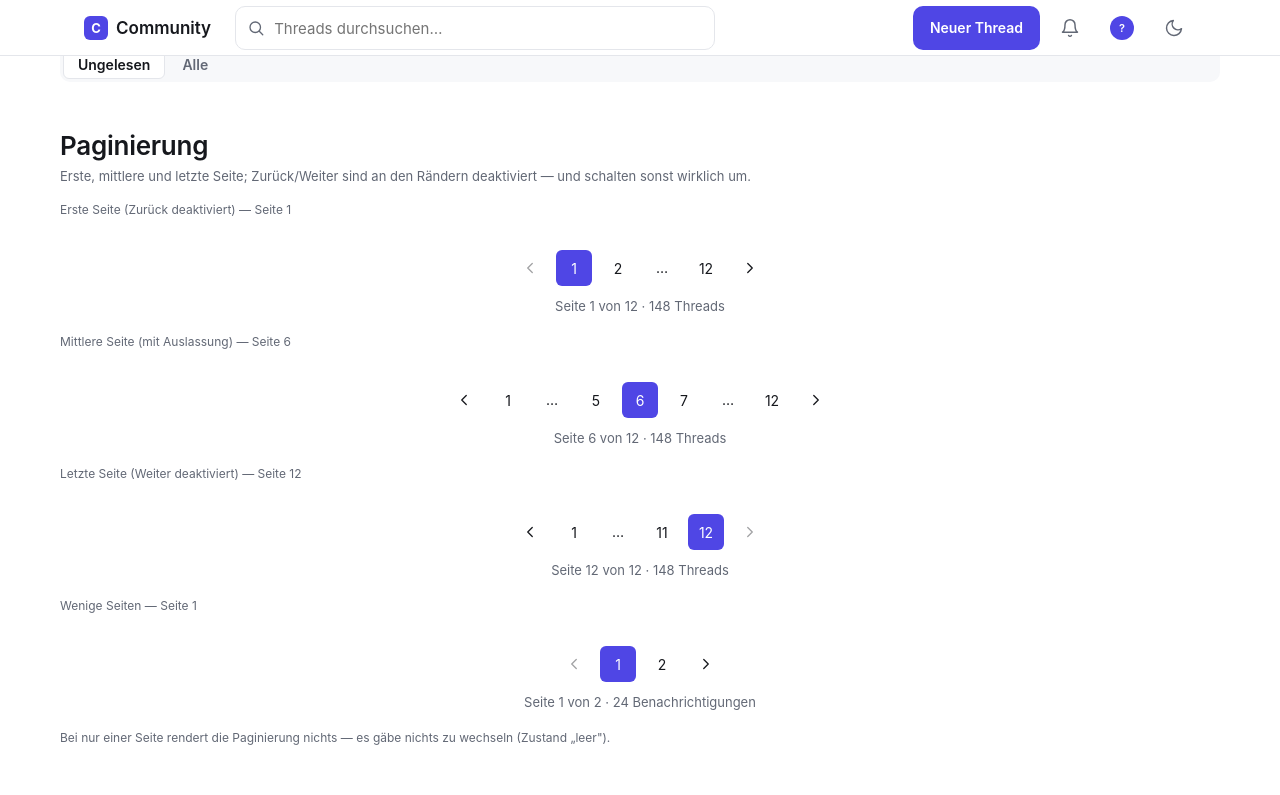
forum UI kit gallery › disables the pagination edges and switches the middle page
The image size is (1280, 795).
(page scrolled)
Expected: the 1st button named "Zurück" is disabled, [512,250,548,286]
Expected: the 3rd button named "Weiter" is disabled, [732,514,768,550]
What coordinates should you click on to do the following:
click the 2nd button named "Weiter"
I would click on:
 (816, 400)
Its box is [798,382,834,418].
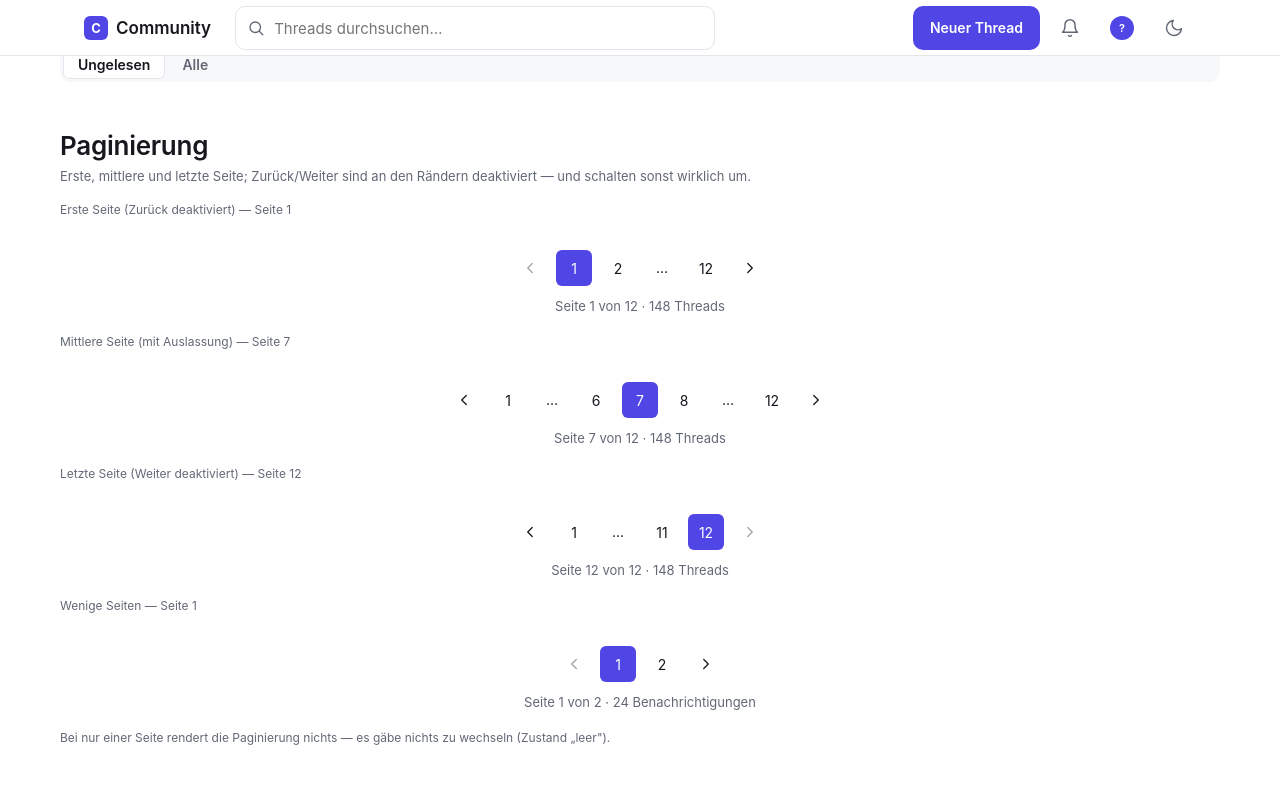
Now the text "Mittlere Seite (mit Auslassung) — Seite 7" is shown, box [60,334,290,349]
